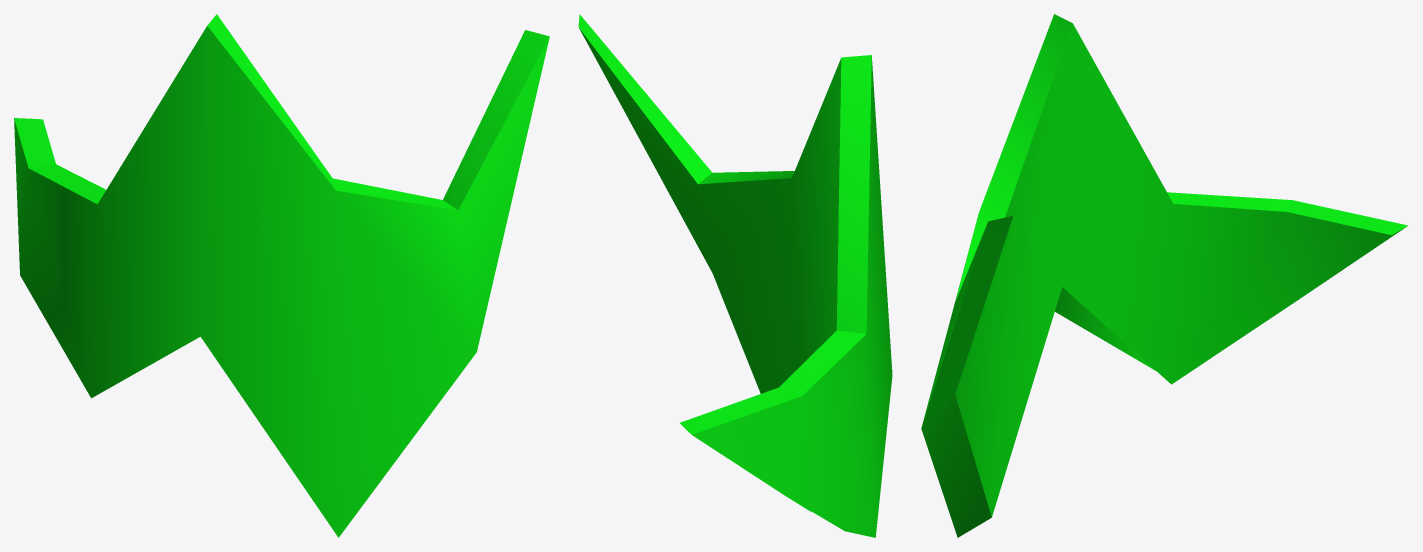
Rendered from metal_piece_B.FBX.
The picture shows the model from 3 angles, left to right: view 1: azimuth 30°, elevation 25°; view 2: azimuth 150°, elevation 25°; view 3: azimuth 270°, elevation 25°; orthographic projection. The views are drawn at different scales.
Parts seen in each view (by area): view 1: metal_piece_B; view 2: metal_piece_B; view 3: metal_piece_B.
Part boxes in pixels (<box>): metal_piece_B: <box>14,14,549,537</box>; metal_piece_B: <box>578,14,892,537</box>; metal_piece_B: <box>921,14,1408,537</box>.
Bounding box in the file's own units: 3.51 × 4.45 × 4.06.
